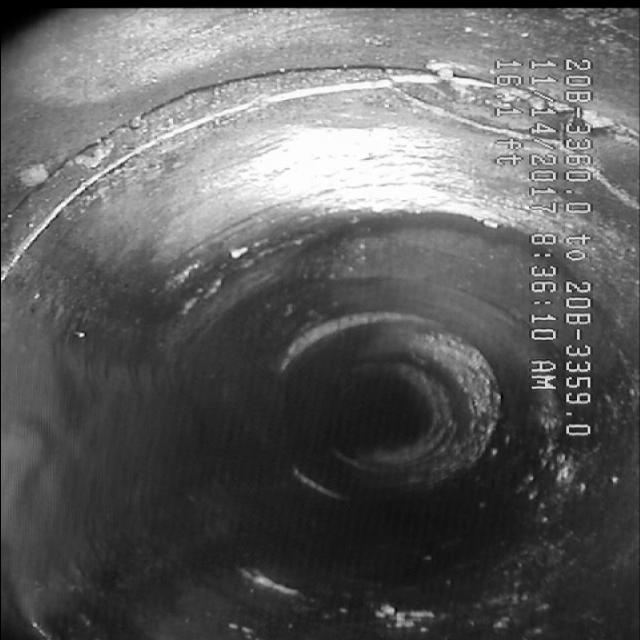Crack: (384, 94, 625, 195)
